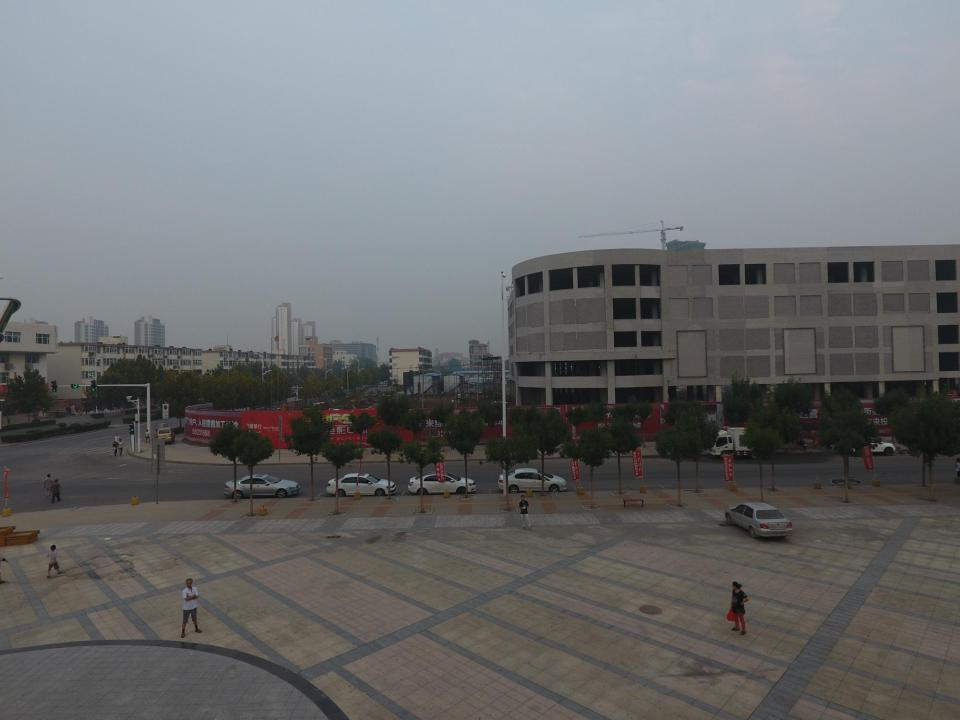car: (723, 502, 794, 539), (223, 473, 300, 500), (326, 472, 398, 499), (497, 467, 567, 494), (407, 470, 476, 496), (847, 436, 896, 456)
truck: (705, 427, 774, 460)
van: (158, 426, 176, 444)
